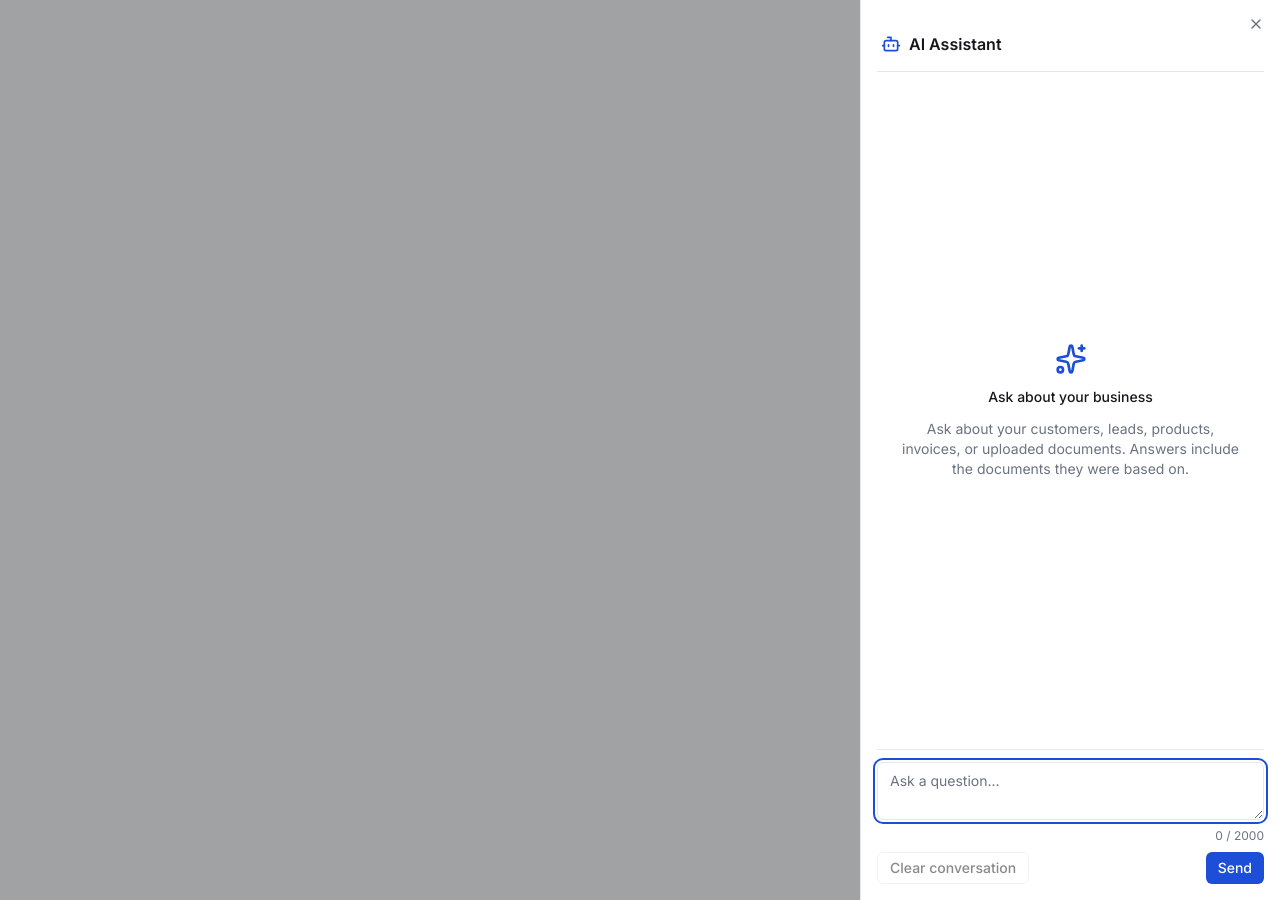
Test case: AiAssistantDrawer › 2. renders the user message after sending
Step 1. Type "What customers are active?" into the text box named "Message" → (1070, 791), box [877,762,1264,820]
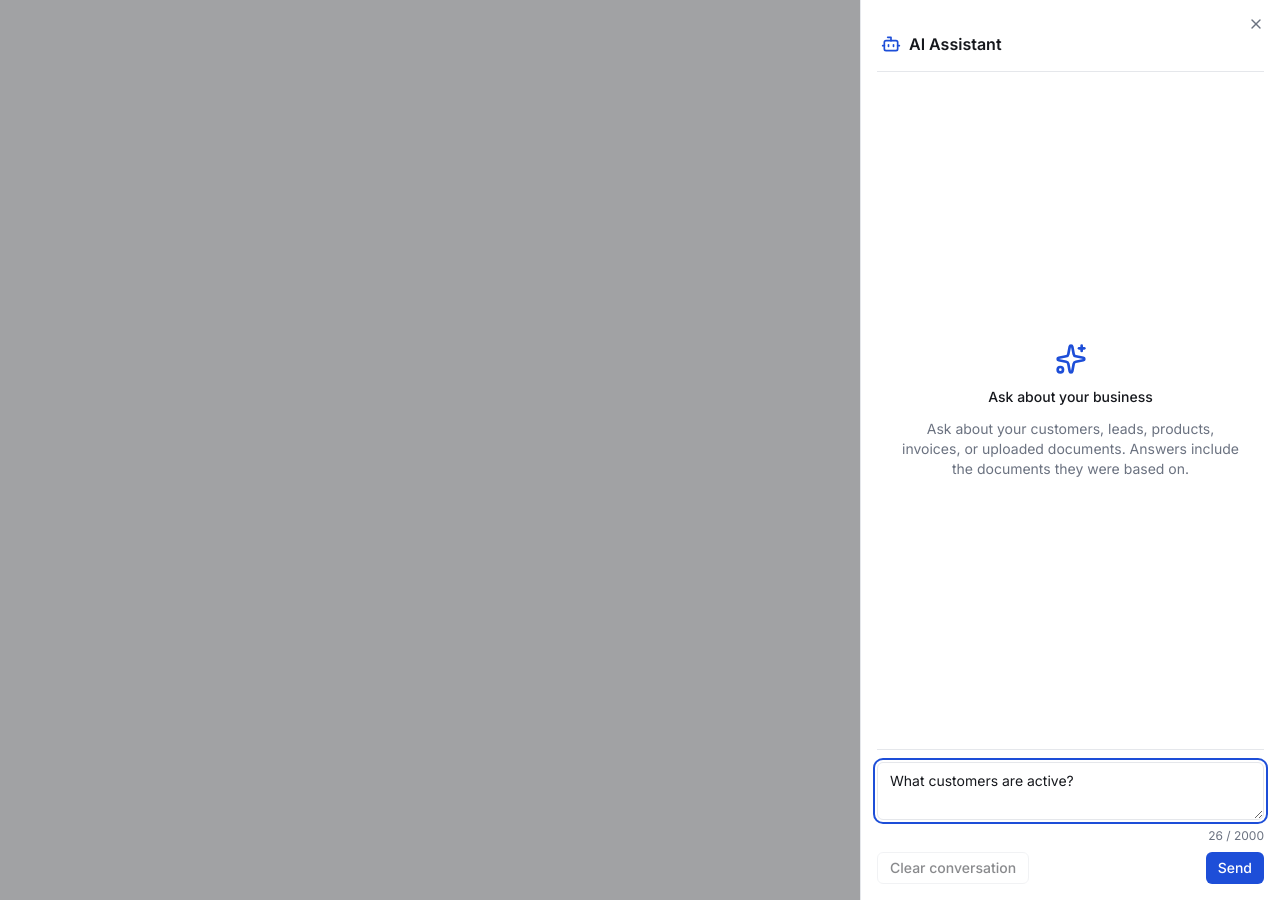
Step 2. Click the button "Send" → (1235, 868), box [1206,852,1264,884]
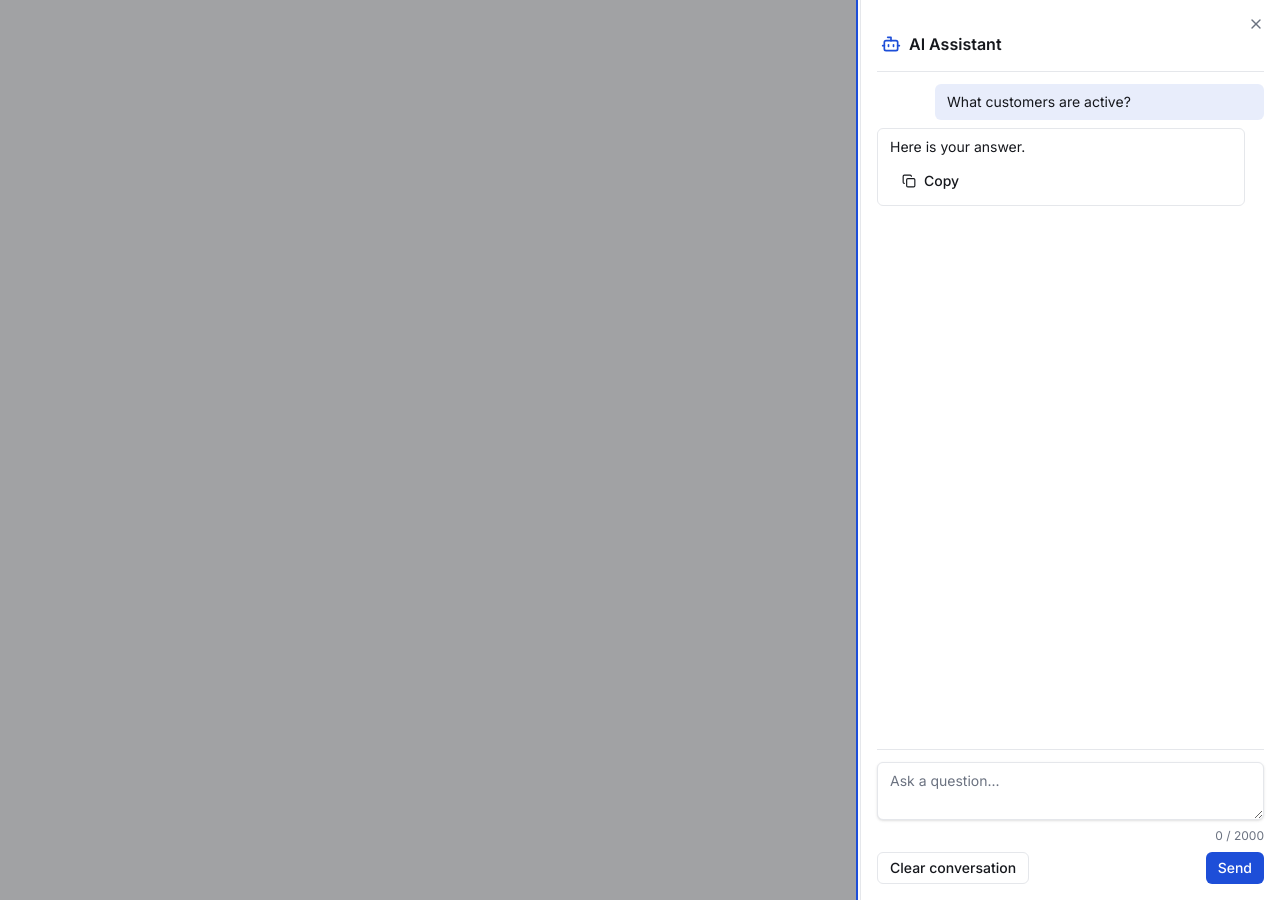
Result: the text "What customers are active?" is shown at [935,84,1264,120]
